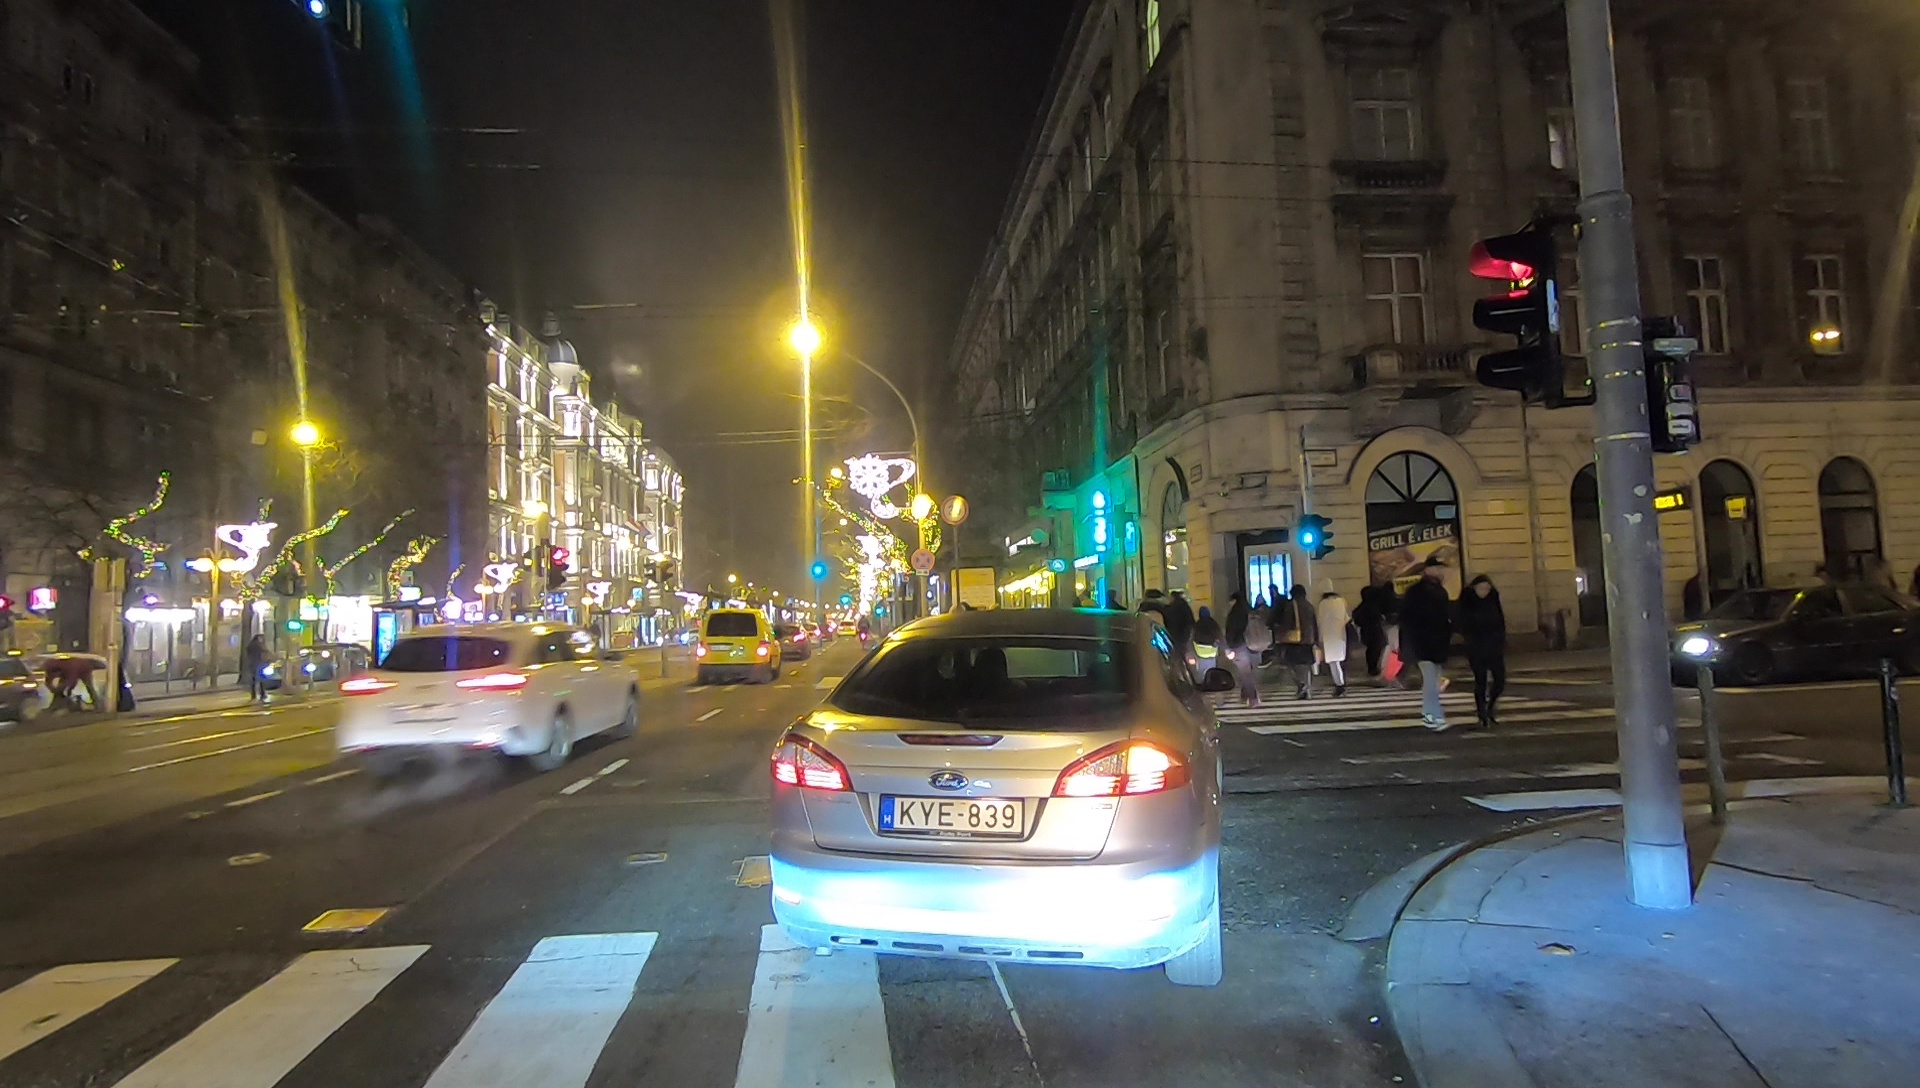person: (1404, 560, 1453, 730), (1460, 578, 1508, 722), (1223, 596, 1272, 701), (1315, 579, 1354, 692), (1283, 586, 1313, 691), (1167, 591, 1194, 705), (1196, 607, 1223, 698), (246, 634, 273, 703)
